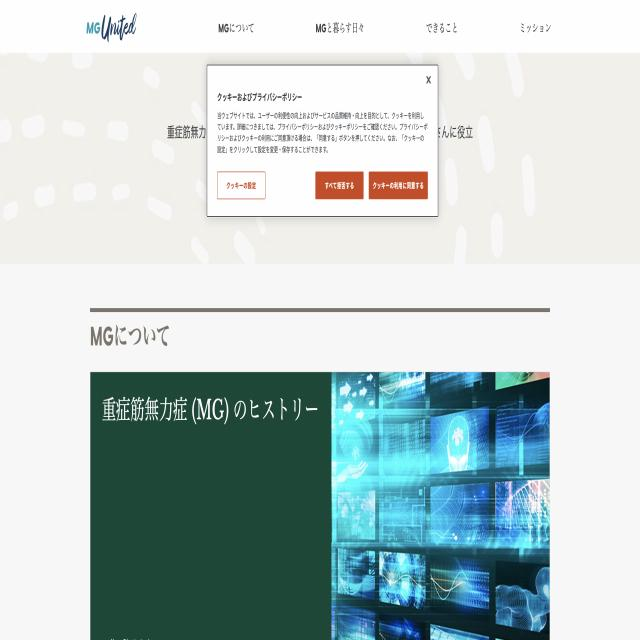Logo: (80, 8, 149, 54)
Navigation: (212, 0, 565, 45)
